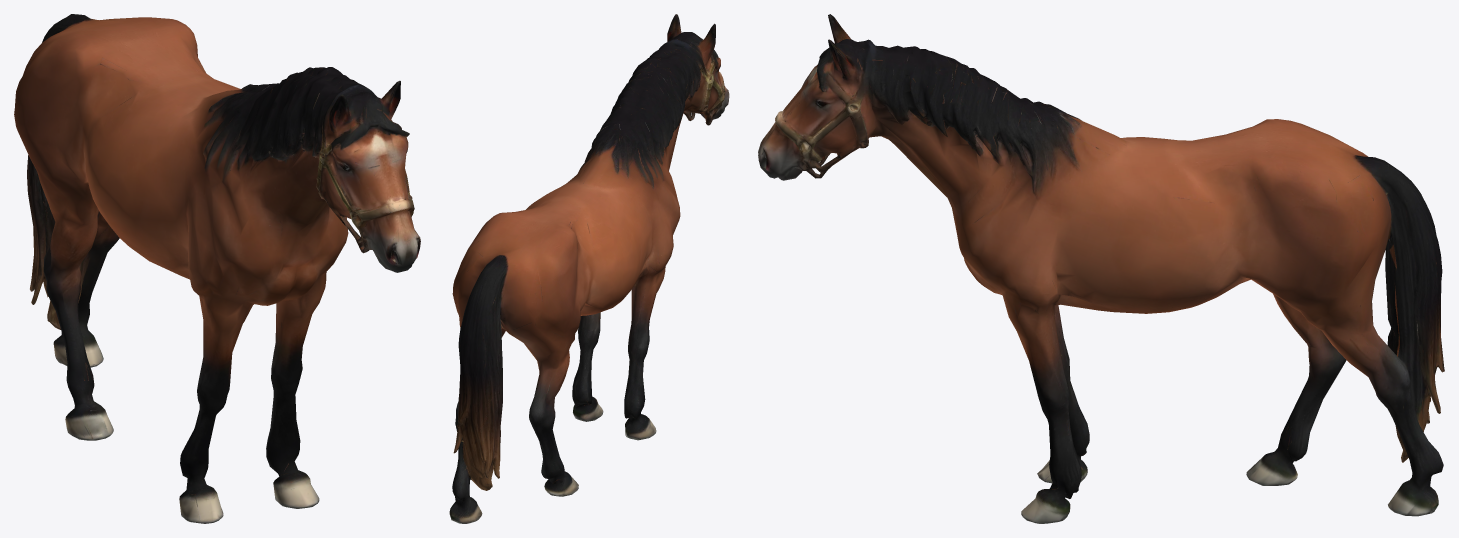
Rendered from horse.obj.
The picture shows the model from 3 angles, left to right: view 1: azimuth 30°, elevation 25°; view 2: azimuth 150°, elevation 25°; view 3: azimuth 270°, elevation 25°; orthographic projection. The views are drawn at different scales.
Parts seen in each view (by area): view 1: obj1; view 2: obj1; view 3: obj1.
Part boxes in pixels (x1=…): obj1: x1=14, y1=14, x2=420, y2=523; obj1: x1=449, y1=14, x2=729, y2=523; obj1: x1=758, y1=14, x2=1444, y2=523.
Size of the model in its own units: 0.4986 by 1.45 by 1.91.
1 material, 1 textured.
